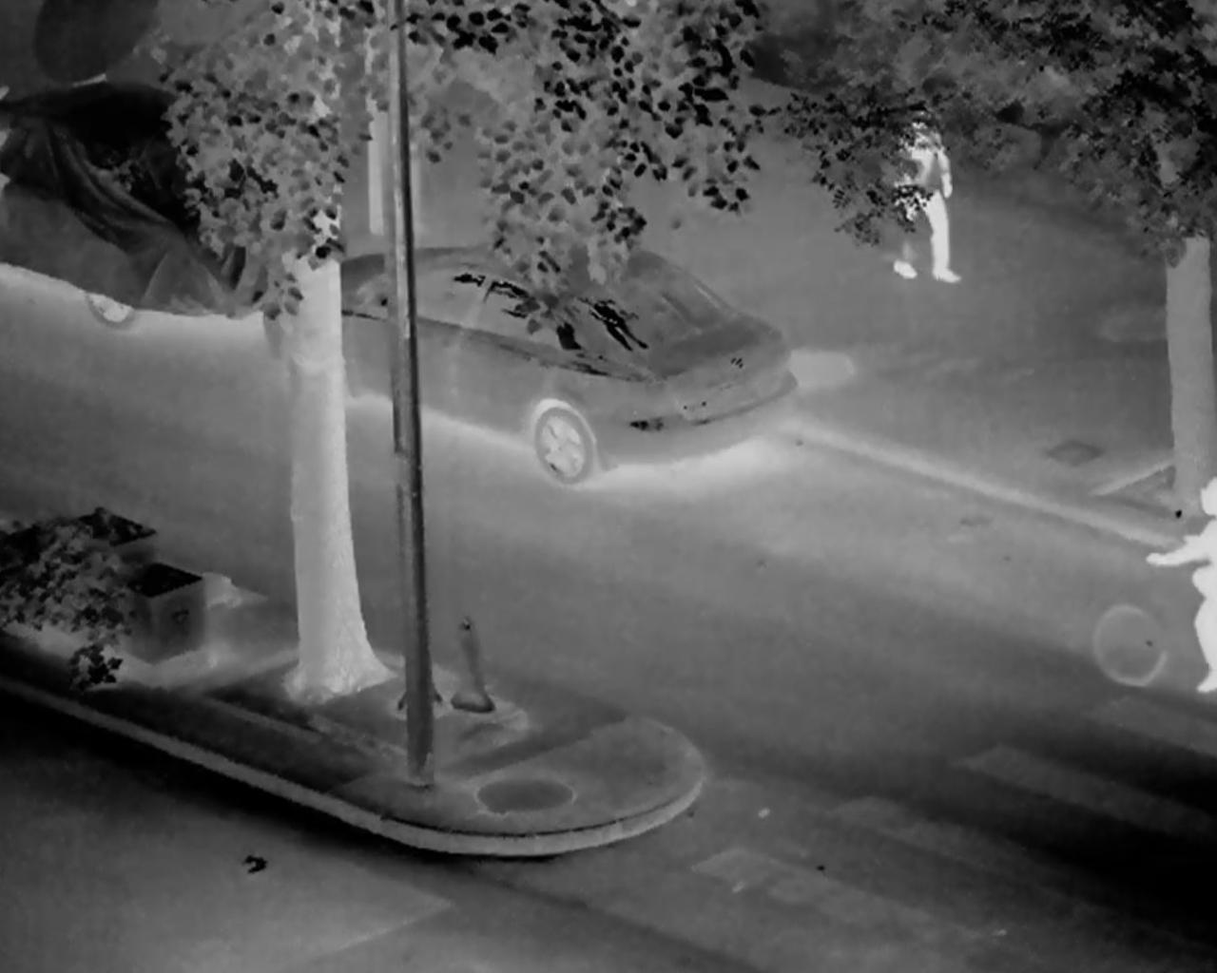person: (1144, 478, 1217, 692), (890, 105, 967, 290)
